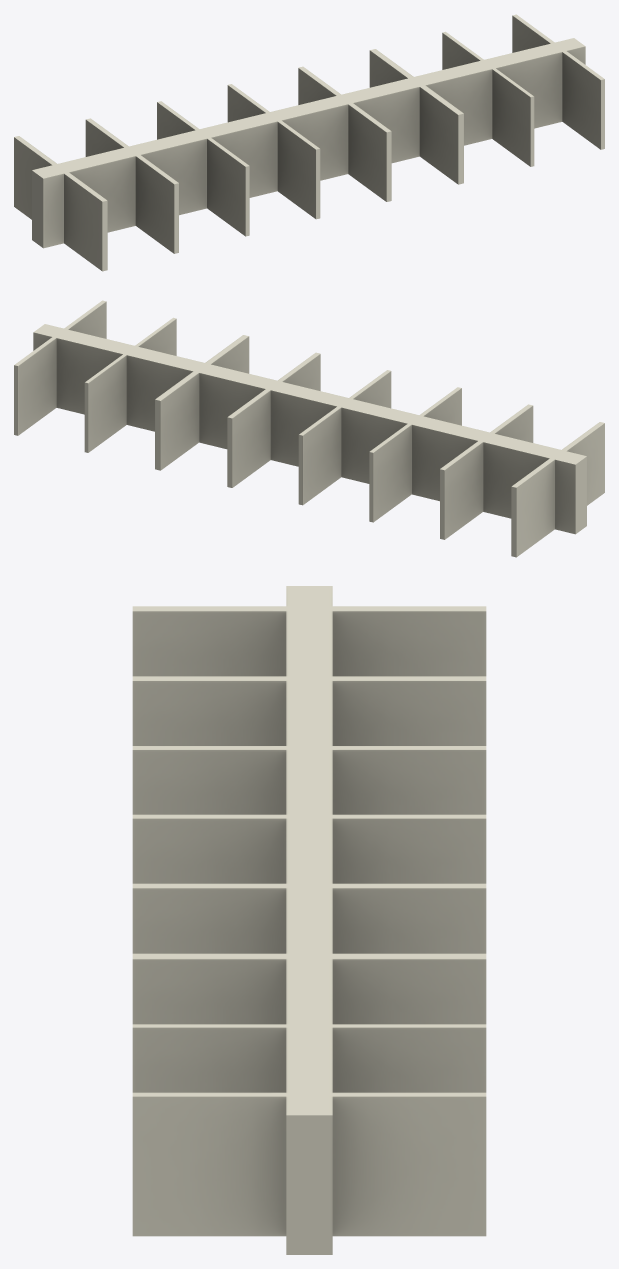
File: Cubicals.fbx
The picture shows the model from 3 angles, top to bottom: view 1: azimuth 30°, elevation 25°; view 2: azimuth 150°, elevation 25°; view 3: azimuth 270°, elevation 25°; orthographic projection. The views are drawn at different scales.
Visible parts, largest first — view 1: Cubicles; view 2: Cubicles; view 3: Cubicles.
Boxes of the visible parts, bbox=[...] form: Cubicles: bbox=[14, 14, 604, 271]; Cubicles: bbox=[14, 300, 604, 557]; Cubicles: bbox=[132, 586, 486, 1254].
Size of the model in its own units: 351 by 1240 by 152.
